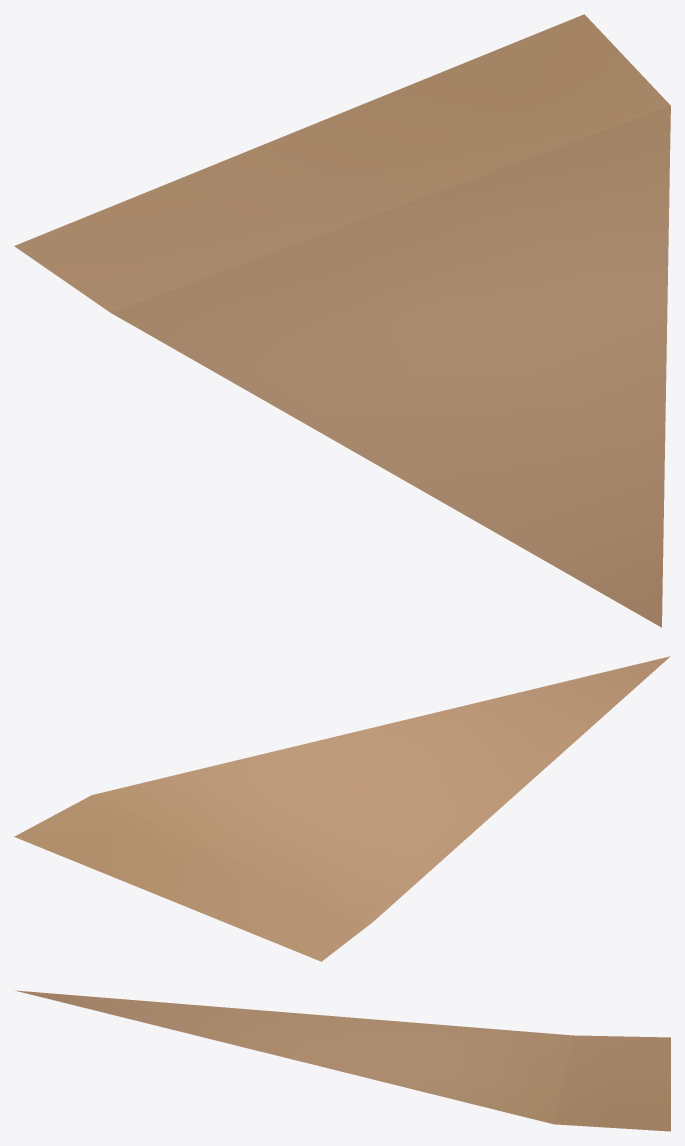
3 views of the same model, one above another, from view 1: azimuth 30°, elevation 25°; view 2: azimuth 150°, elevation 25°; view 3: azimuth 270°, elevation 25° (orthographic). The views are drawn at different scales.
Bounding box in the file's own units: 0.017 × 0.00264 × 0.0334.
Materials: 1 (1 with a texture image).
